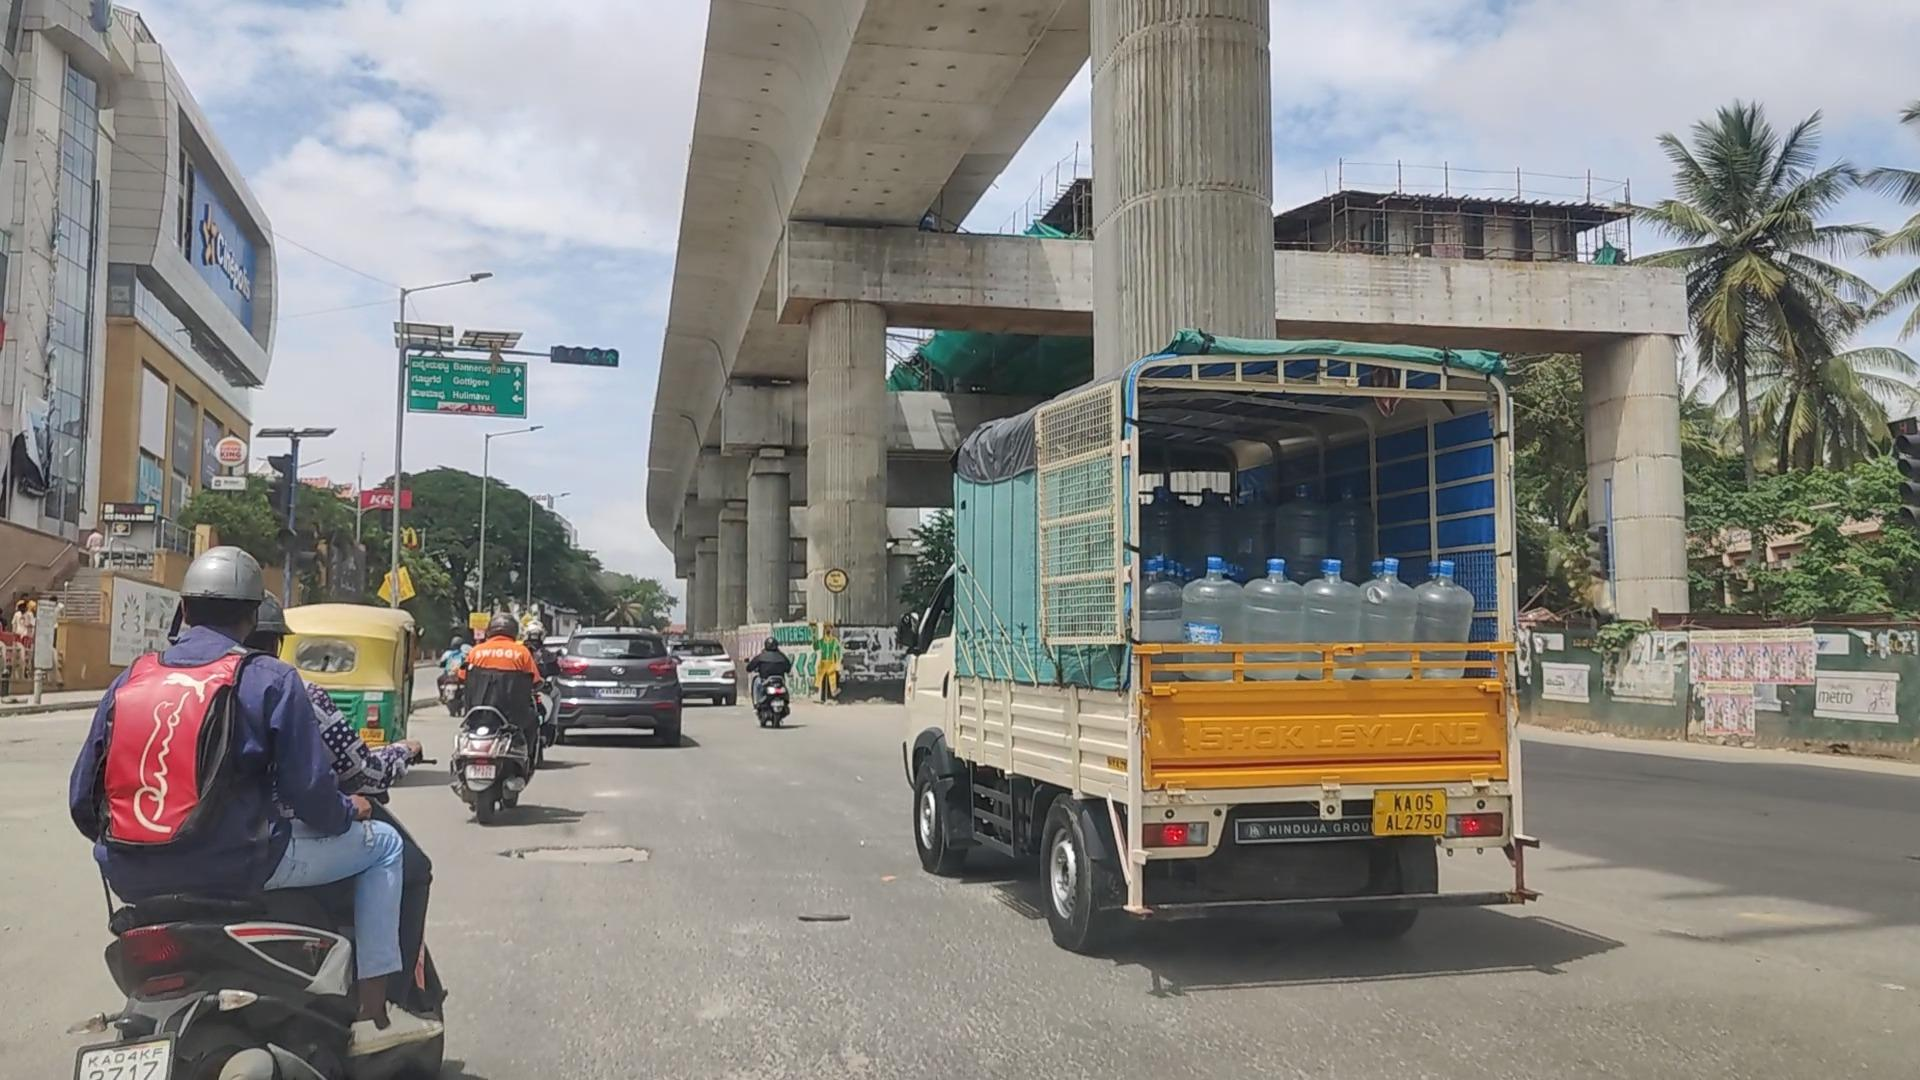HMV: (882, 345, 1532, 972)
LMV: (117, 542, 444, 1080), (459, 616, 539, 820)
RoadDamages: (496, 835, 666, 884)
